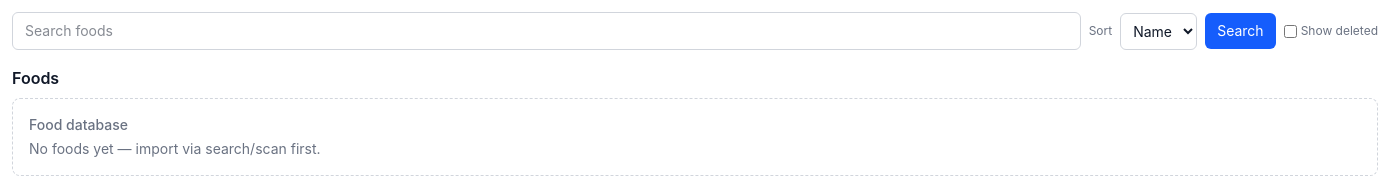
it: FoodDatabase › show-deleted reveals + restore appears
Click the checkbox labelled "Show deleted" at x=1290, y=31, box [1284, 24, 1297, 38]
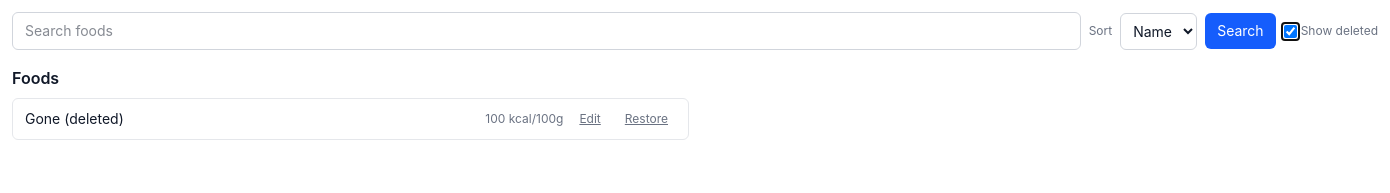
Check: the button with aria-label "Restore Gone" is shown, box [617, 107, 676, 131]
